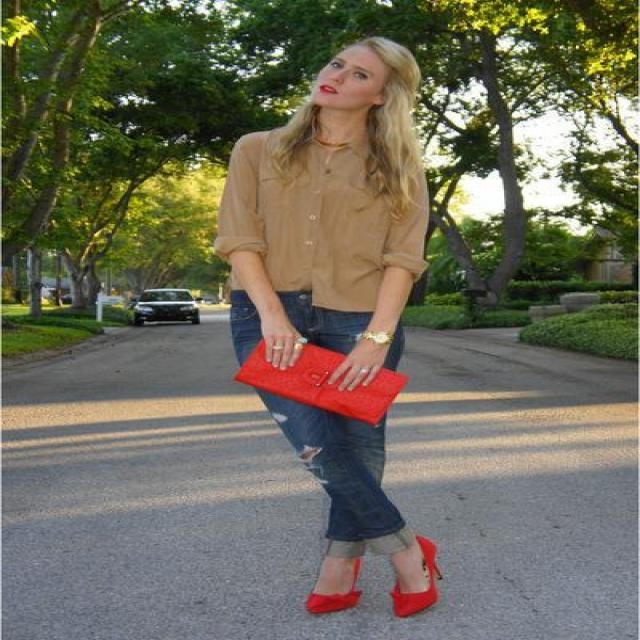bag: (235, 346, 402, 421)
pants: (229, 288, 405, 564)
shirt: (197, 128, 426, 311)
shoe: (306, 534, 442, 616)
